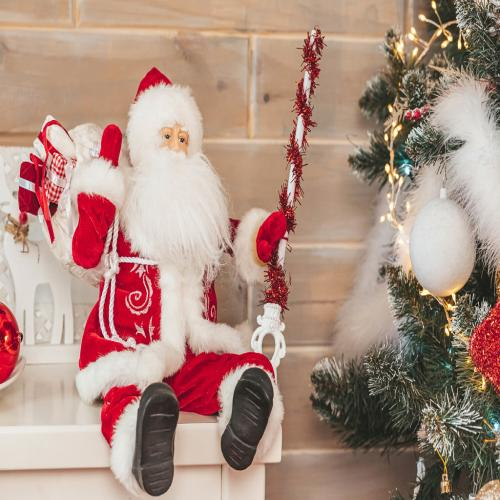Santa: (72, 66, 289, 497)
